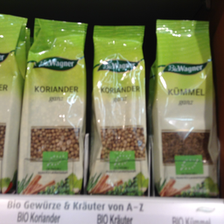spices: (153, 17, 222, 196), (18, 18, 86, 192), (89, 24, 150, 194)
